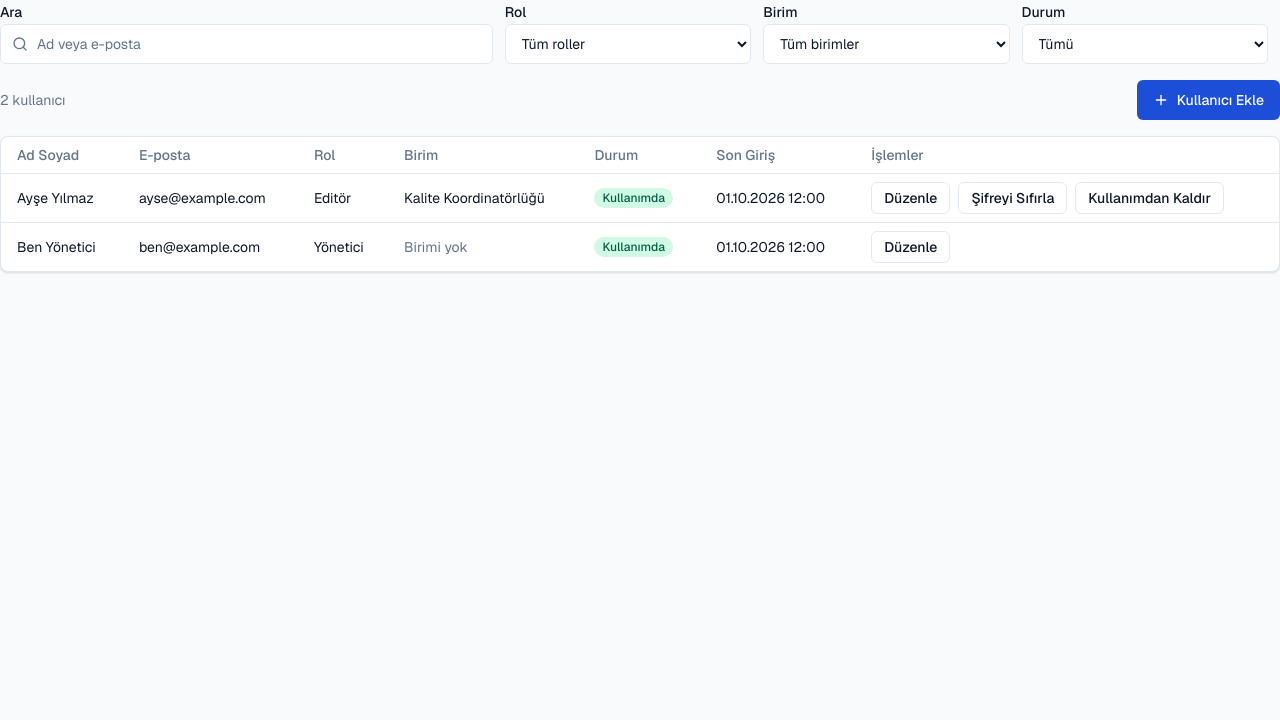
Test case: UserAdmin forms › does not send a form with a short name, a bad email, no department for an editor or a short password
Click the button "Kullanıcı Ekle": (1208, 100) [1137,80,1279,120]
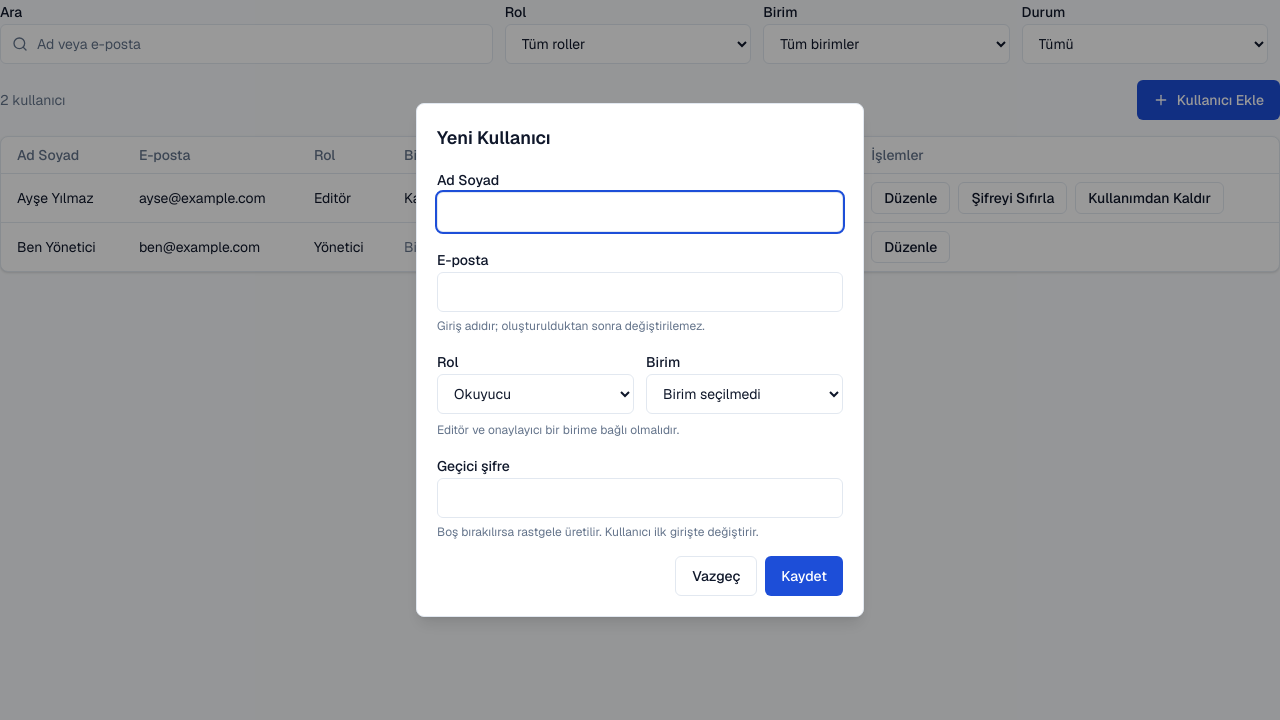
In the field labelled "Ad Soyad": (640, 212) [437,192,843,232], type "A"
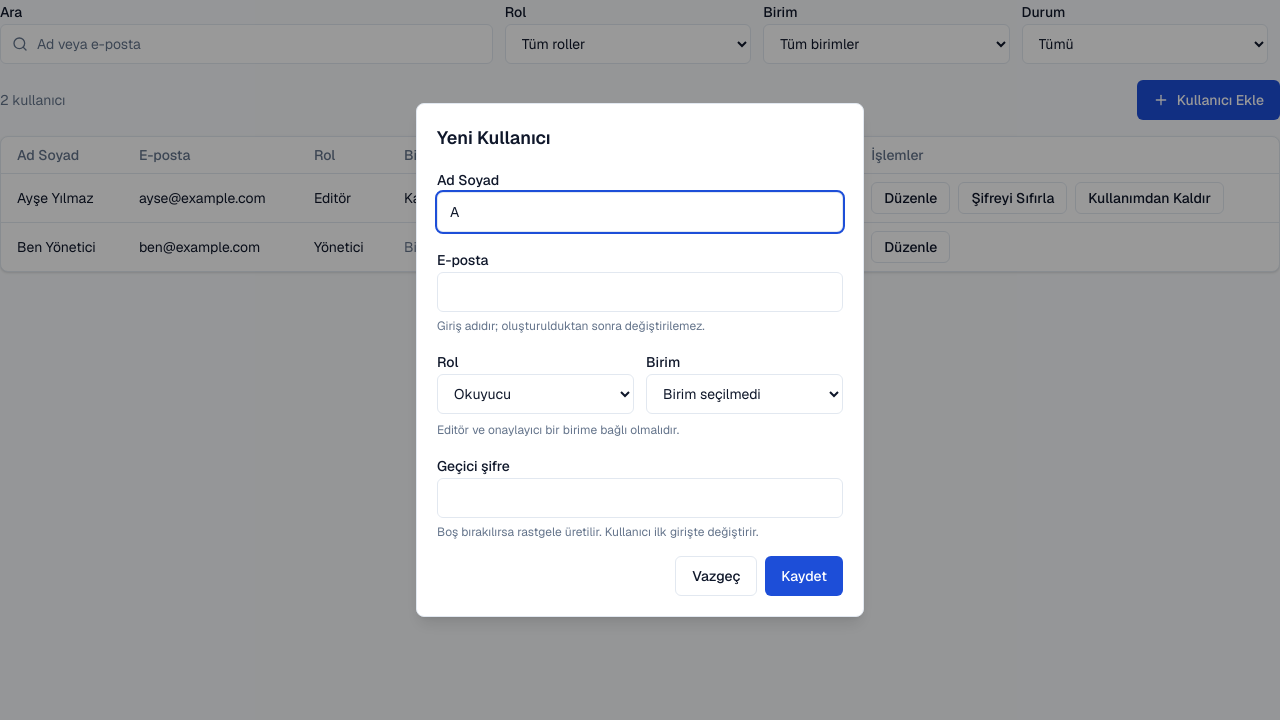
In the field labelled "E-posta": (640, 292) [437,272,843,312], type "not-an-email"
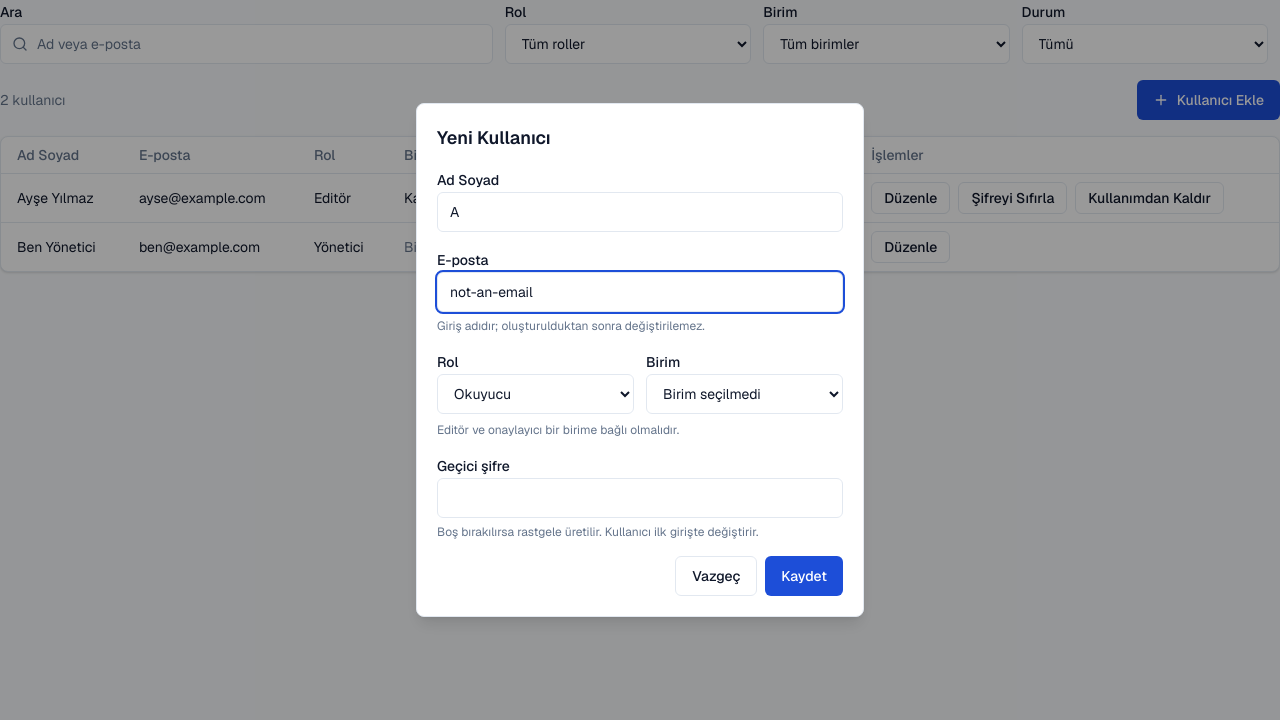
Select "Editör" in the dropdown labelled "Rol": (536, 394) [437,374,634,414]
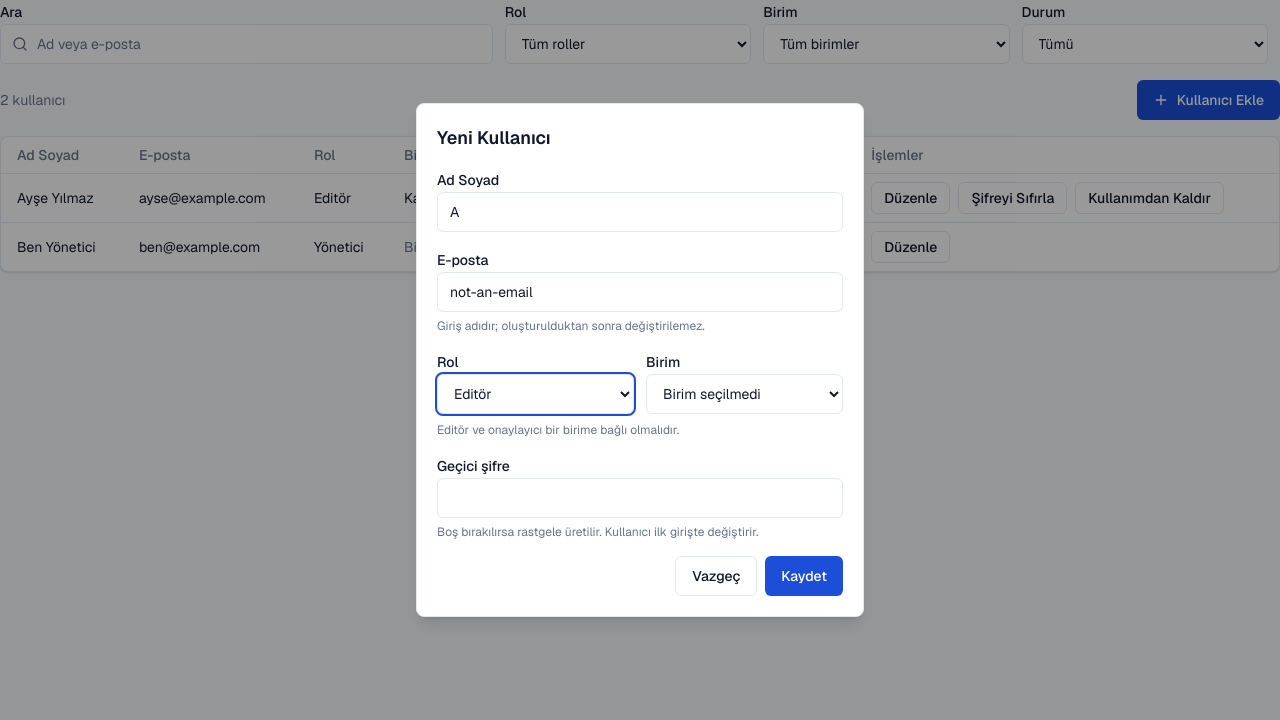
In the field labelled "Geçici şifre": (640, 498) [437,478,843,518], type "short"
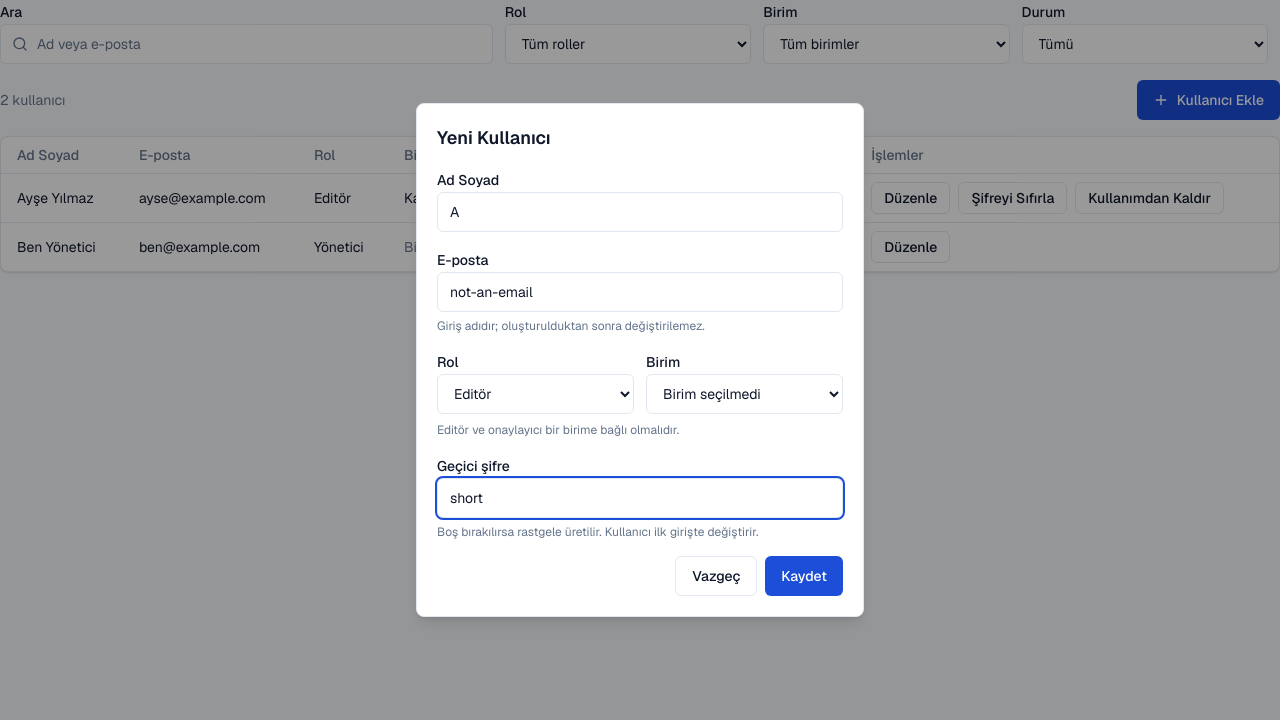
Click the button "Kaydet": (804, 576) [765,556,843,596]
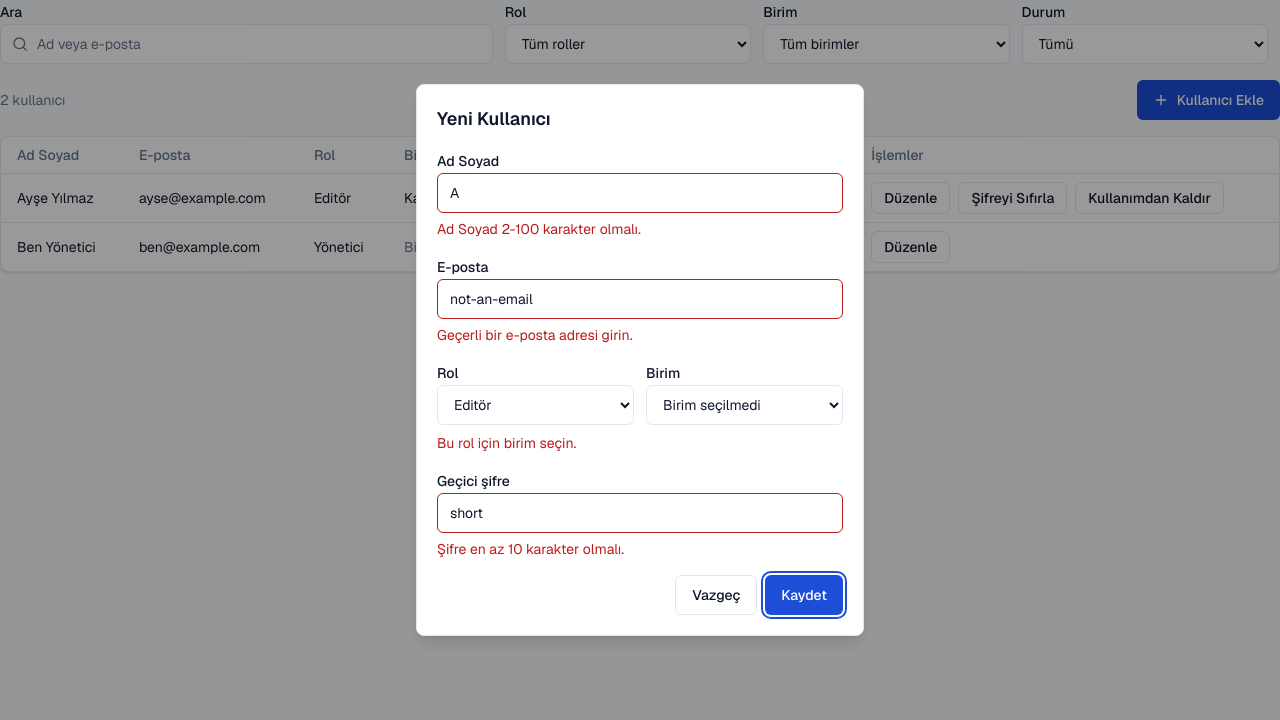
Check: the text "Ad Soyad 2-100 karakter olmalı." is shown, box [437,220,641,238]
Check: the text "Geçerli bir e-posta adresi girin." is shown, box [437,326,632,344]
Check: the text "Bu rol için birim seçin." is shown, box [437,434,576,452]
